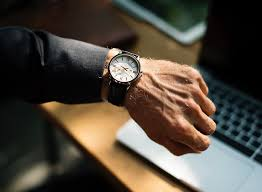clock: (109, 54, 139, 82)
